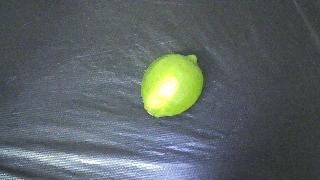LOCAL: (141, 54, 203, 118)
